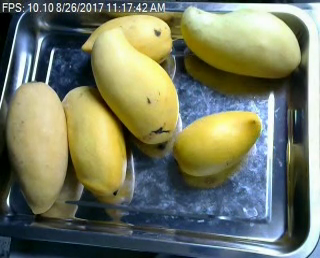Mango: (91, 27, 176, 140), (180, 7, 300, 75), (8, 82, 70, 213), (64, 86, 126, 195), (175, 109, 262, 174), (81, 14, 173, 71)
